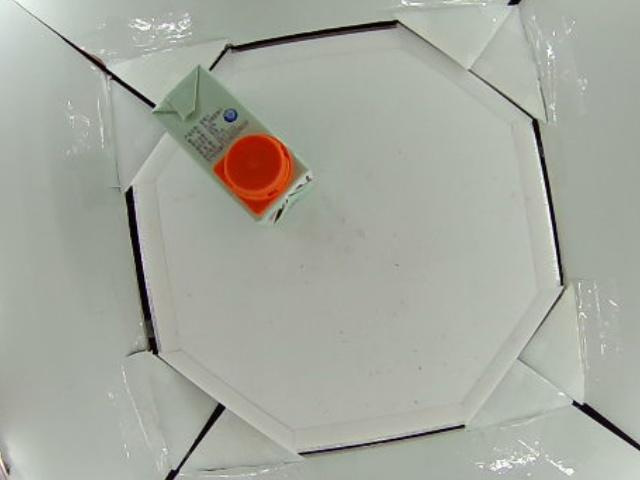Bottle: (154, 62, 314, 228)
